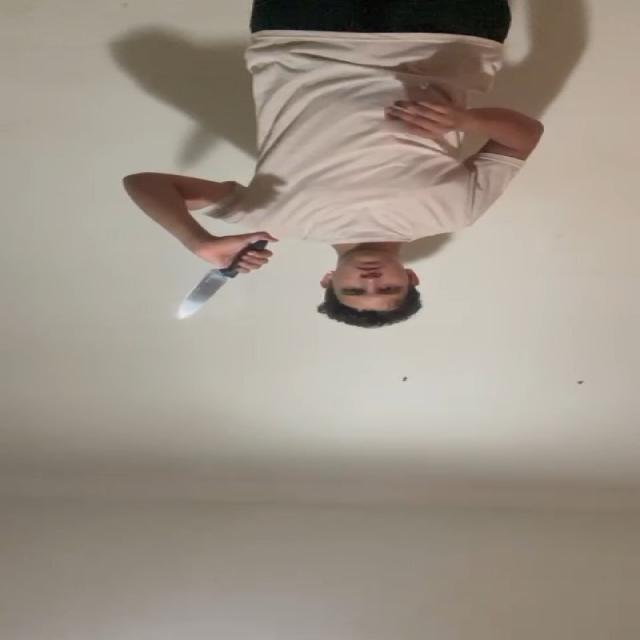knife: (175, 275, 229, 318)
